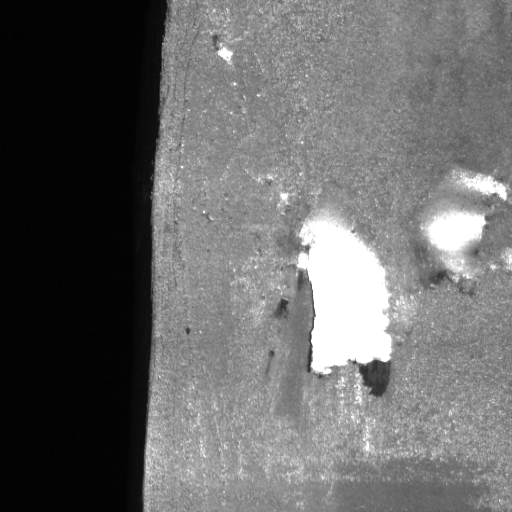aokeng: (292, 210, 397, 402), (415, 160, 508, 302)
